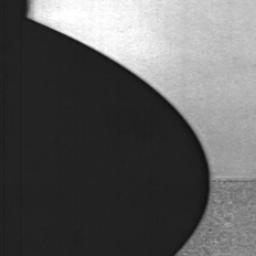Crescent gap: (29, 18, 212, 256)
